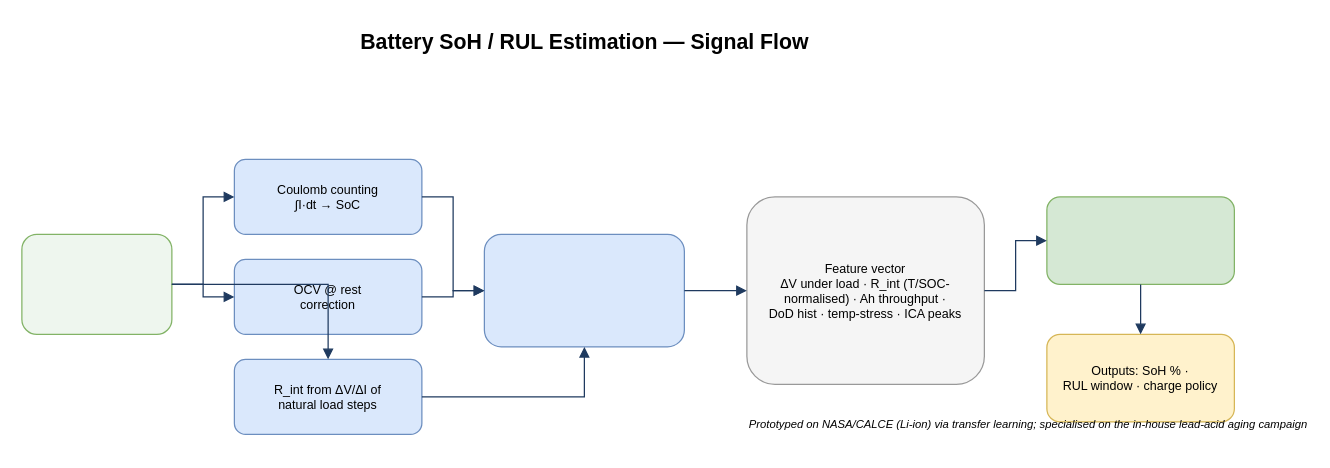
The diagram is 1330 pixels wide and 468 high, and some of its shapes have lost their labels. The shapes that lost their labels are listed below. From the top down, each one's box as (x1, y1, x2, y2) in pixels, then its label:
(1046, 196, 1234, 284): TinyML SoH/RUL model (GRU · int8)
(21, 233, 172, 334): Sensor inputs I · V · T
(483, 233, 684, 347): Extended Kalman Filter (state fusion)
